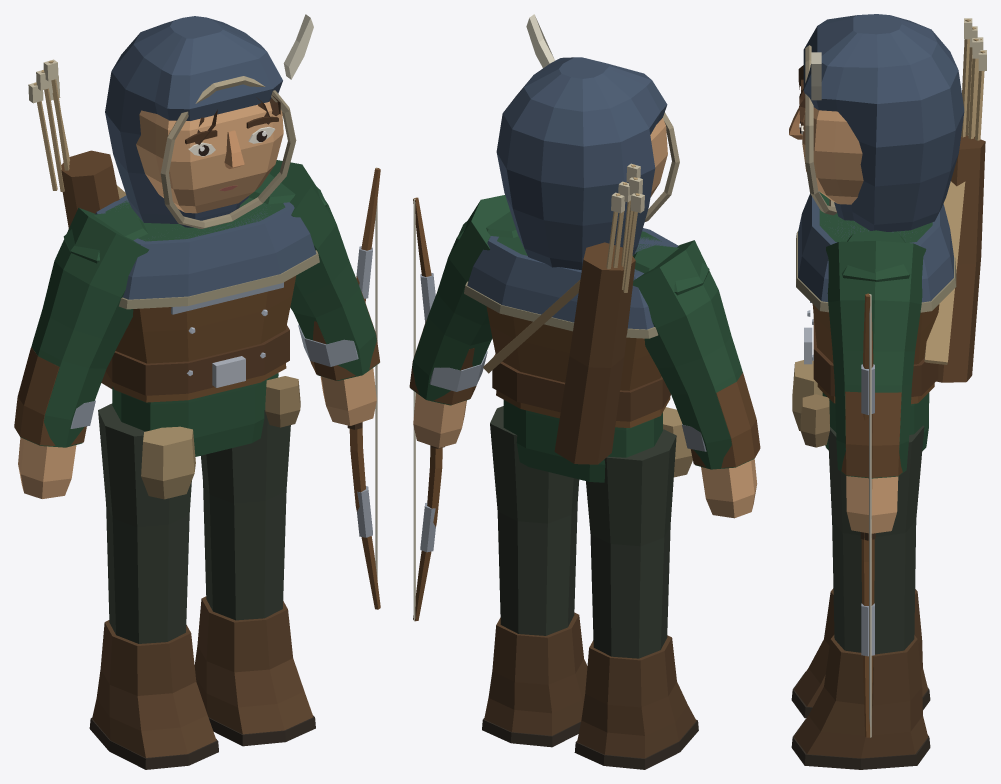
The model's file is ranger-rare.obj.
3 renders of one model, left to right at view 1: azimuth 30°, elevation 25°; view 2: azimuth 150°, elevation 25°; view 3: azimuth 270°, elevation 25°, orthographic. The views are drawn at different scales.
Visible parts, largest first — view 1: bacaklar, kollar, cizmeler, kapuson, pelerin, gogus-zirhi, kafa, govde, kemer, eller, bileklikler, kese (+14 smaller); view 2: bacaklar, kapuson, kollar, cizmeler, sadak, pelerin, gogus-zirhi, govde, eller, kemer, bileklikler, cizme-tabani (+12 smaller); view 3: kapuson, kollar, cizmeler, bacaklar, sadak, pelerin, bileklikler, kafa, eller, sadak-kayisi, cizme-tabani, govde (+12 smaller).
Boxes of the visible parts, bbox=[...] form: bacaklar: bbox=[98, 403, 290, 643]; kollar: bbox=[20, 160, 379, 447]; cizmeler: bbox=[92, 596, 313, 757]; kapuson: bbox=[105, 16, 282, 227]; pelerin: bbox=[95, 195, 316, 299]; gogus-zirhi: bbox=[105, 275, 296, 402]; kafa: bbox=[136, 101, 283, 213]; govde: bbox=[105, 197, 285, 456]; kemer: bbox=[106, 325, 289, 395]; eller: bbox=[18, 368, 376, 498]; bileklikler: bbox=[14, 291, 379, 445]; kese: bbox=[141, 426, 195, 499]; bacaklar: bbox=[490, 406, 676, 658]; kapuson: bbox=[496, 57, 667, 270]; kollar: bbox=[410, 195, 754, 469]; cizmeler: bbox=[484, 612, 696, 758]; sadak: bbox=[554, 242, 635, 464]; pelerin: bbox=[467, 228, 677, 329]; gogus-zirhi: bbox=[486, 306, 670, 427]; govde: bbox=[497, 231, 662, 482]; eller: bbox=[413, 393, 757, 518]; kemer: bbox=[492, 354, 670, 421]; bileklikler: bbox=[409, 320, 760, 467]; cizme-tabani: bbox=[482, 718, 698, 769]; kapuson: bbox=[803, 14, 964, 231]; kollar: bbox=[826, 230, 926, 478]; cizmeler: bbox=[794, 588, 928, 758]; bacaklar: bbox=[828, 425, 924, 654]; sadak: bbox=[936, 135, 985, 382]; pelerin: bbox=[798, 191, 953, 302]; bileklikler: bbox=[841, 391, 902, 477]; kafa: bbox=[802, 107, 863, 204]; eller: bbox=[846, 476, 898, 533]; sadak-kayisi: bbox=[924, 181, 965, 364]; cizme-tabani: bbox=[791, 671, 930, 769]; govde: bbox=[819, 192, 932, 450].
Size of the model in its own units: 22.16 by 41.95 by 10.56.
